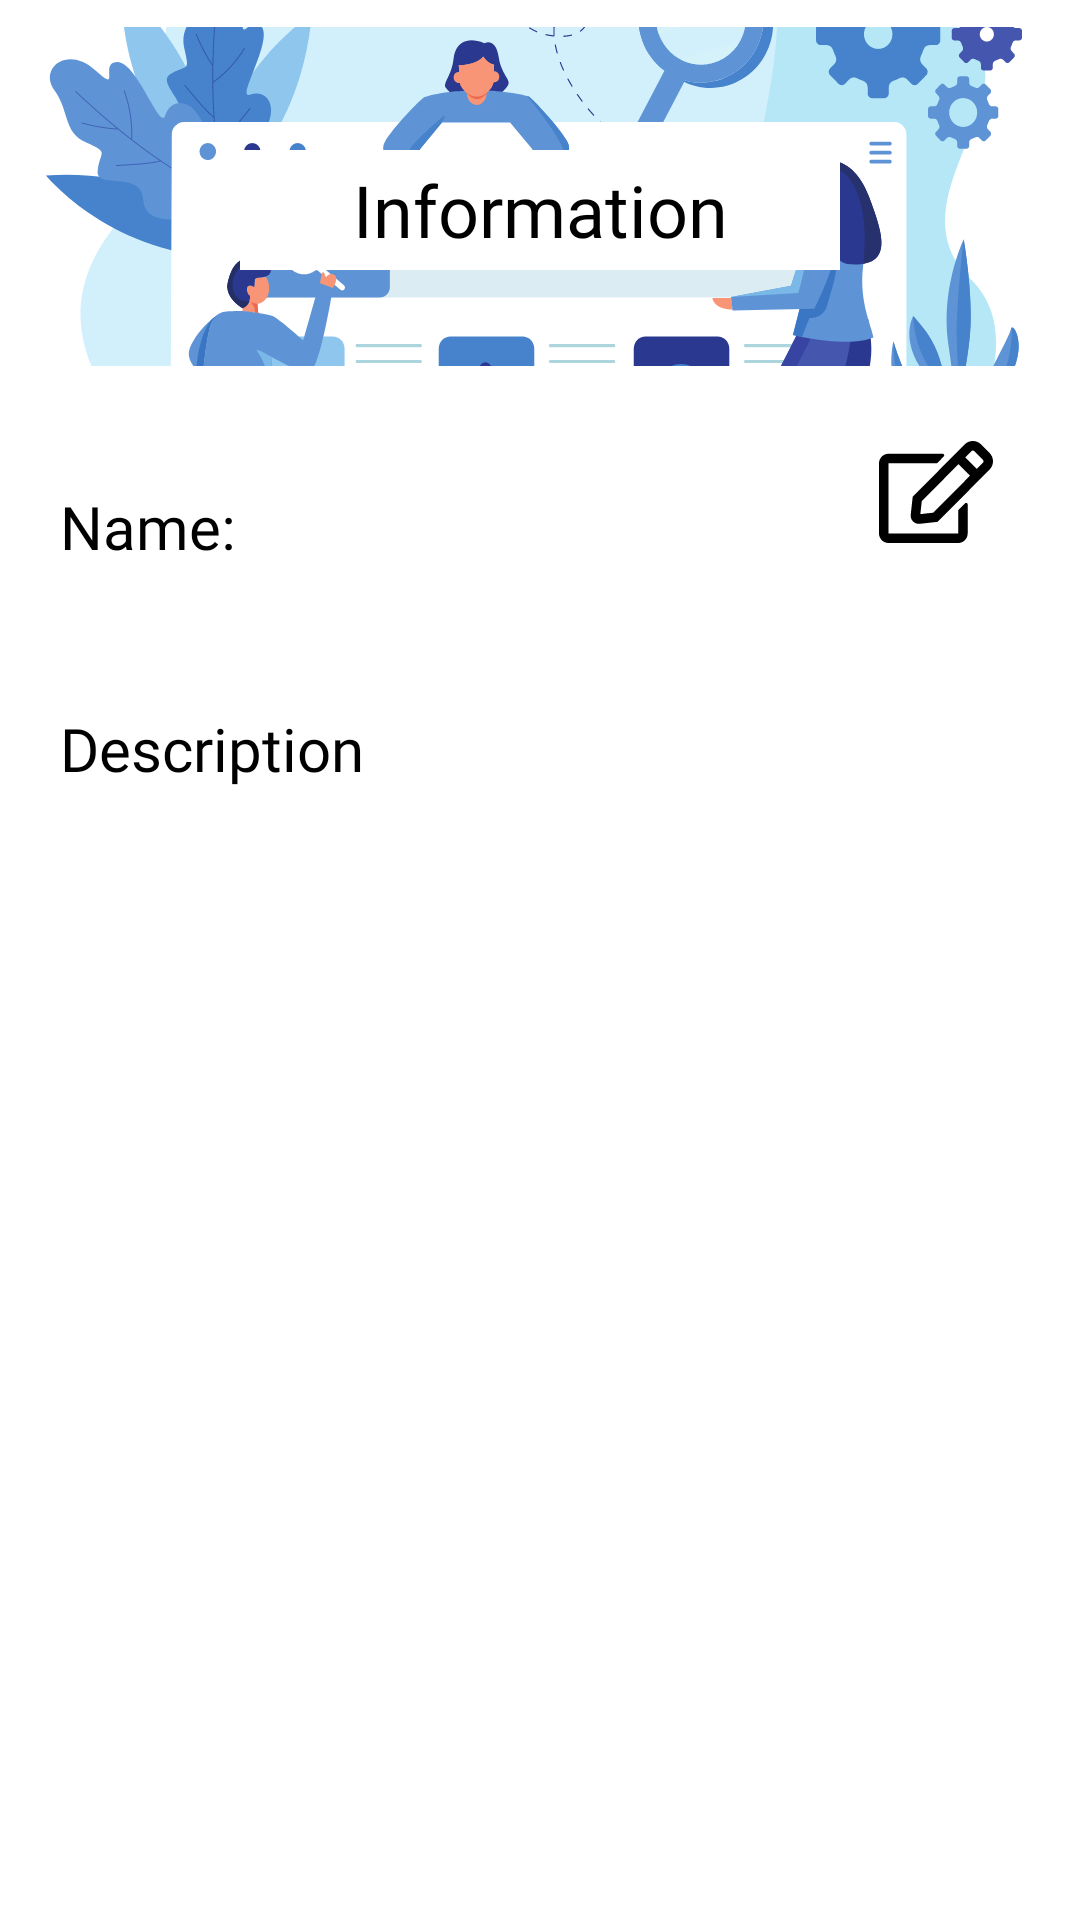

Icons on this 1080*1920 Android screen, each with the point to tap as point (x, y):
Edit: point (936, 492)
